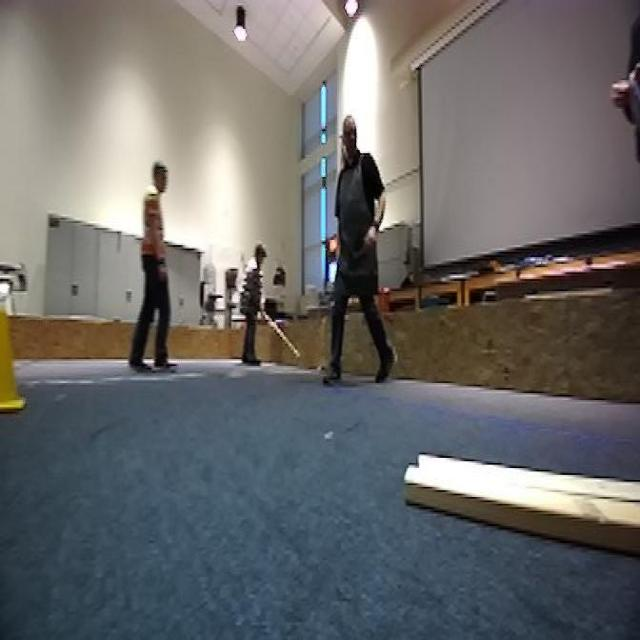frc_cone: (0, 301, 23, 412)
